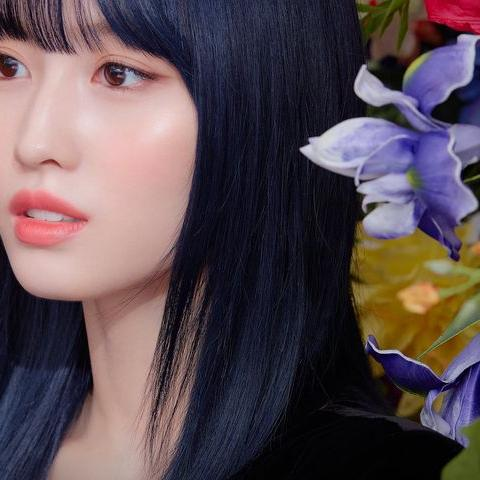opened: (0, 4, 181, 118)
